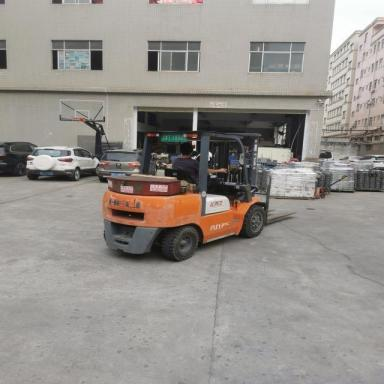forklift: (94, 128, 275, 266)
